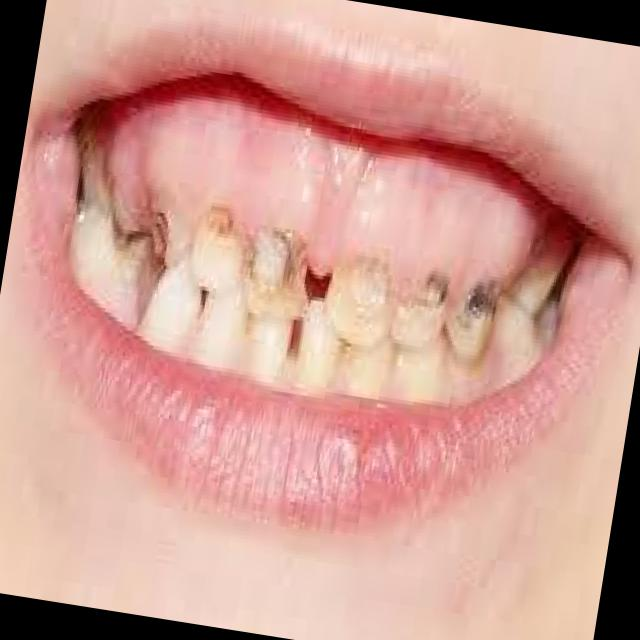Caries: (155, 209, 167, 258), (466, 293, 494, 313)
Tooth: (73, 199, 157, 335), (326, 264, 392, 346), (143, 255, 201, 347), (248, 247, 308, 321), (390, 332, 448, 408), (199, 277, 252, 358), (391, 274, 447, 350), (193, 207, 241, 289), (446, 283, 494, 358), (296, 304, 336, 388), (239, 313, 294, 369), (340, 335, 391, 388), (495, 296, 536, 359), (154, 209, 190, 270)
